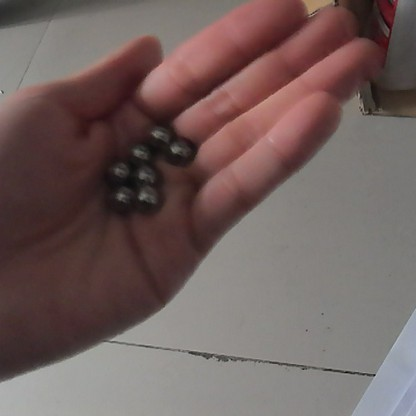ironball: (164, 135, 193, 165), (133, 184, 163, 213), (129, 162, 159, 190), (108, 183, 134, 215), (107, 157, 134, 183), (146, 123, 171, 149), (129, 141, 153, 166)
